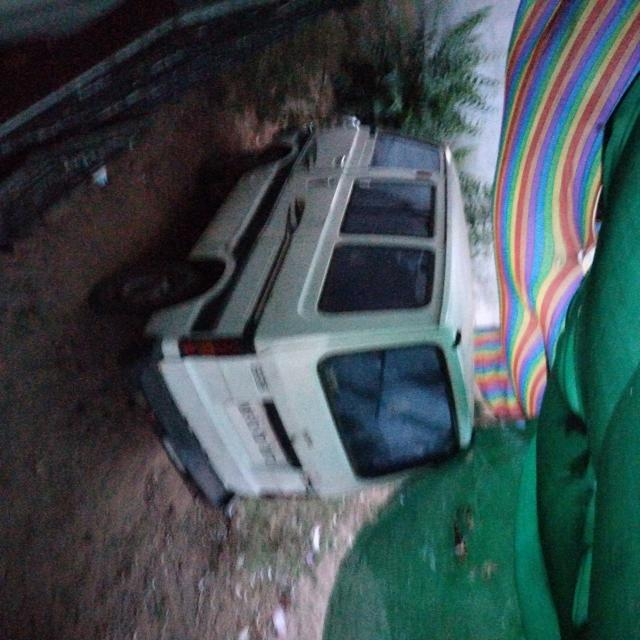Car: (142, 105, 480, 497)
